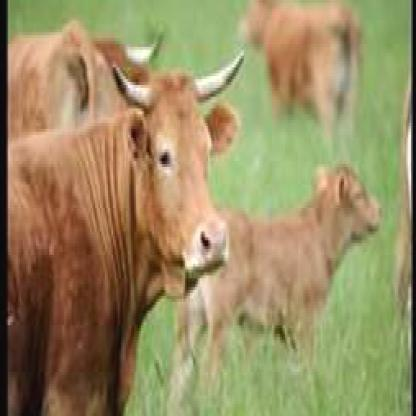cow: (3, 44, 248, 413), (174, 158, 382, 369), (236, 0, 362, 132)
